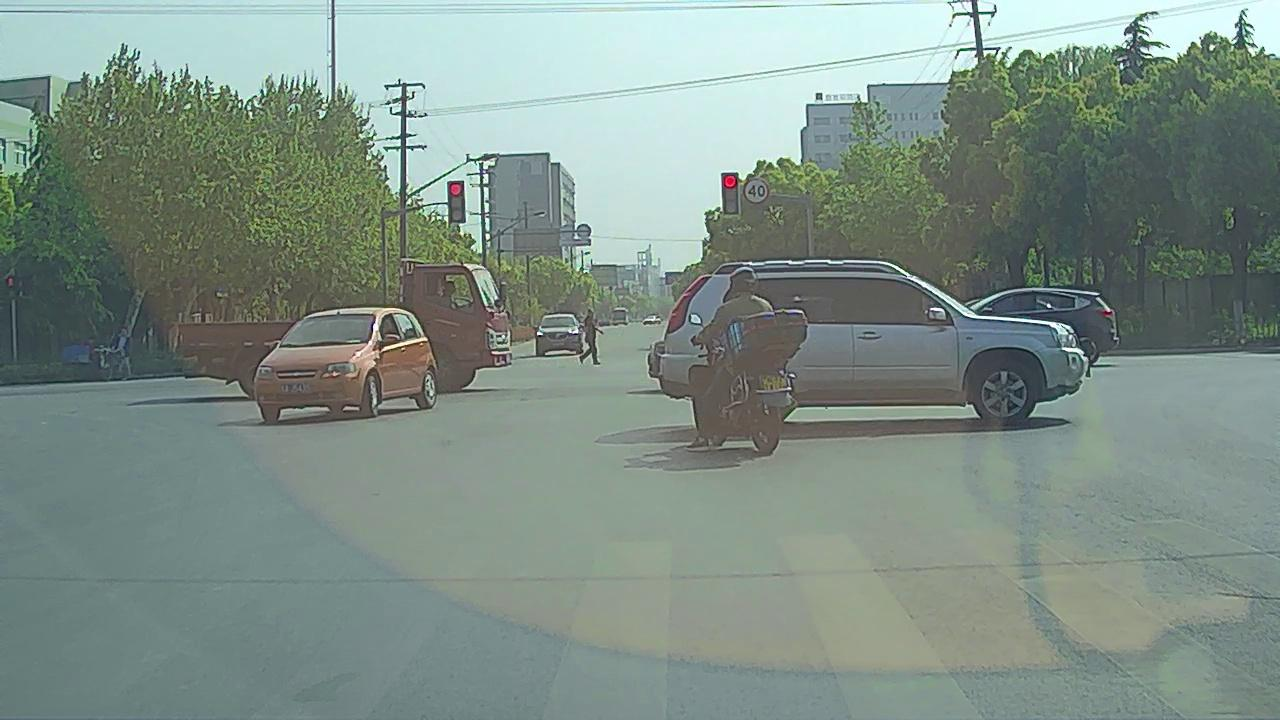traffic_light: (723, 172, 741, 213), (449, 180, 464, 222)
